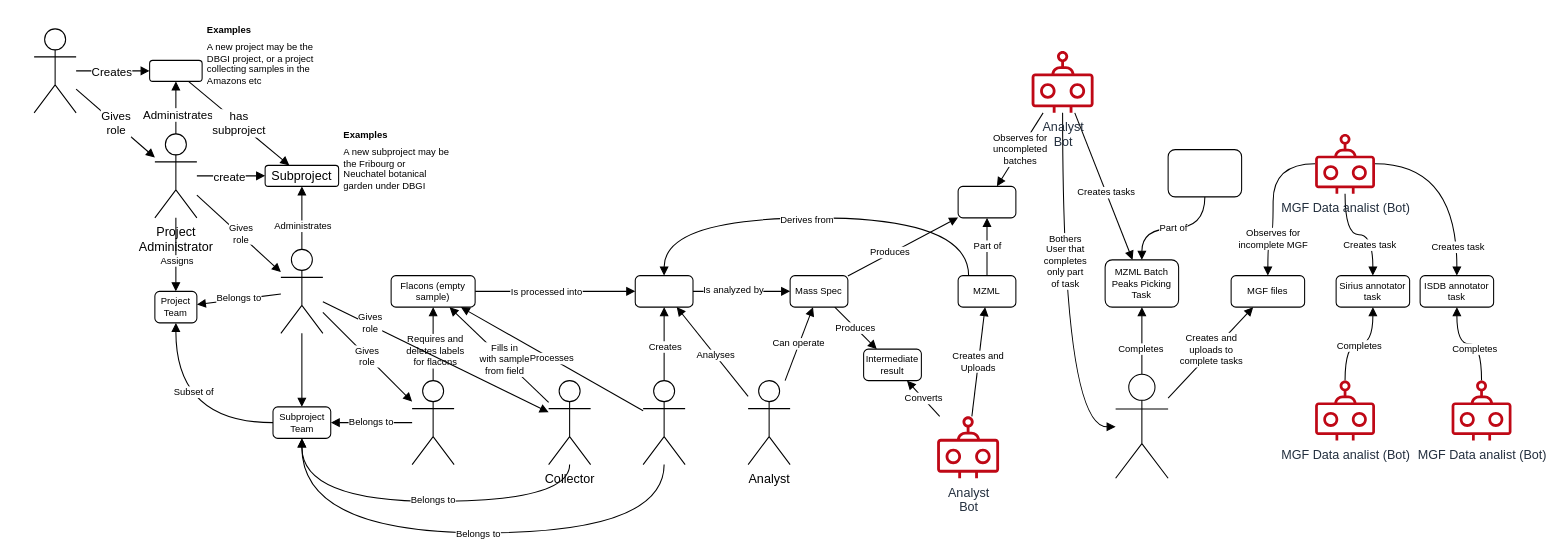
The diagram is 1564 pixels wide and 557 high, and some of its shapes have lost their labels. The centre of each missing label's shape, as x and y in pixels:
"Extractor" goes at [663,422].
"Global Administrator" goes at [54,70].
"Minter" goes at [432,422].
"MZML Batch" goes at [986,201].
"MZML Data Analyst" goes at [1141,425].
"MZML Peaks Picking Task" goes at [1204,173].
"Project" goes at [175,70].
"Sample" goes at [663,291].
"Subproject Administrator" goes at [301,290].
